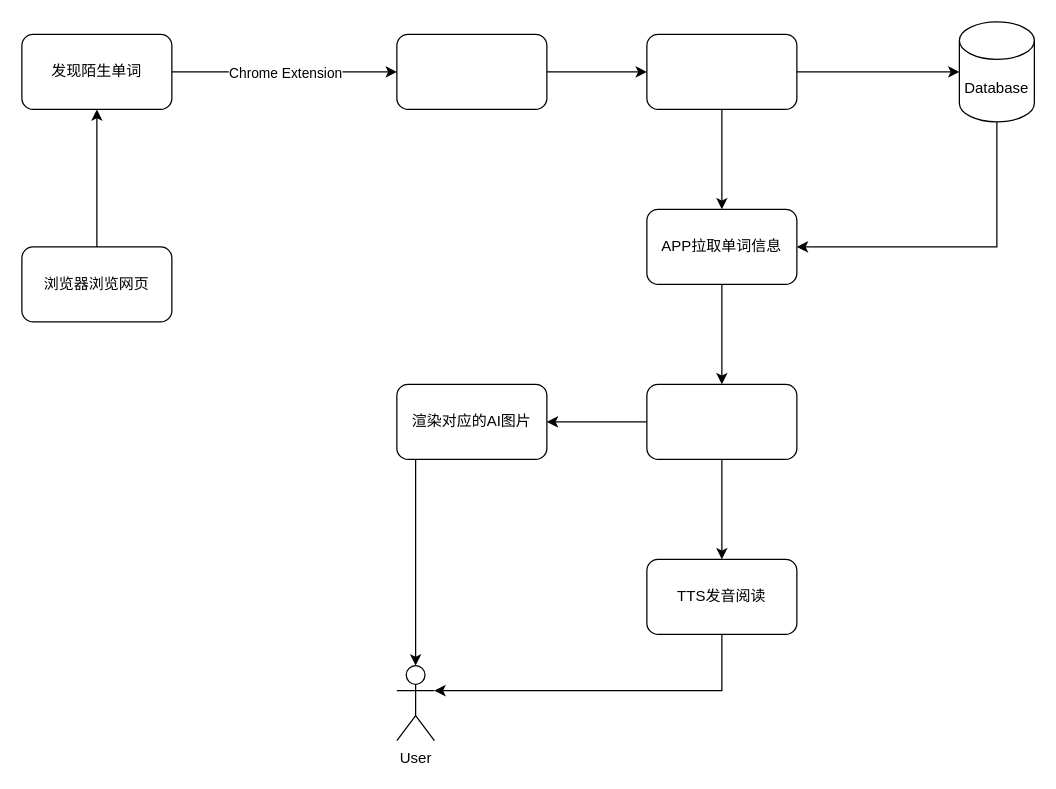
Image size: 1056x789. Some labels were removed from this diagram. Here are the shapes that lost their labels. From the top down, the box of each, then its label:
(396, 33, 547, 109): 选中提交
(646, 33, 797, 109): 保存数据库
(646, 383, 797, 459): AI 接口调用 单词分析和例句
